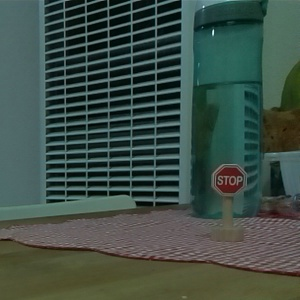stop sign: (209, 162, 248, 244)
